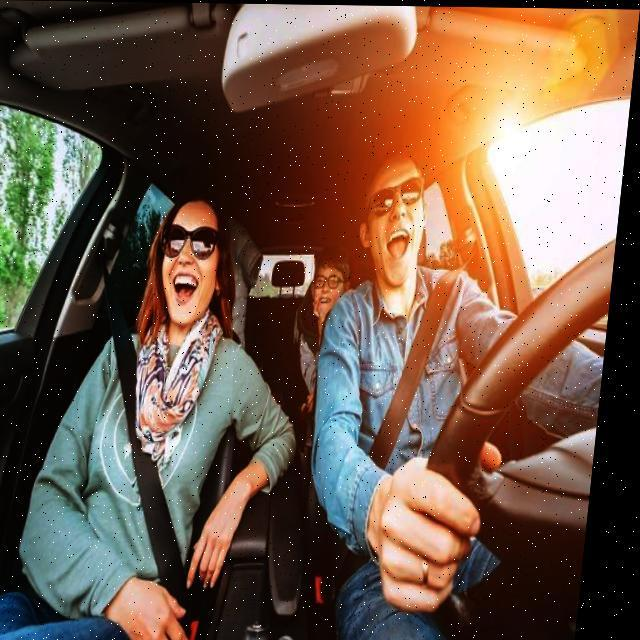seatbelt: (316, 252, 493, 612), (79, 312, 250, 640)
